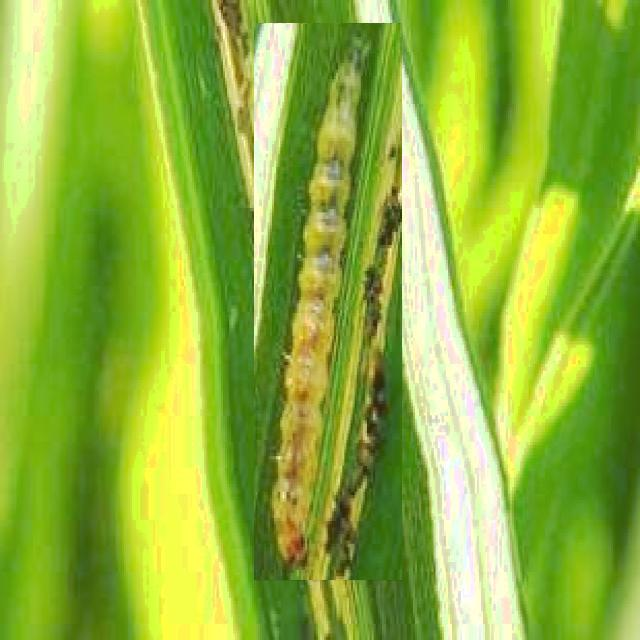leaf-folder: (254, 24, 402, 582)
